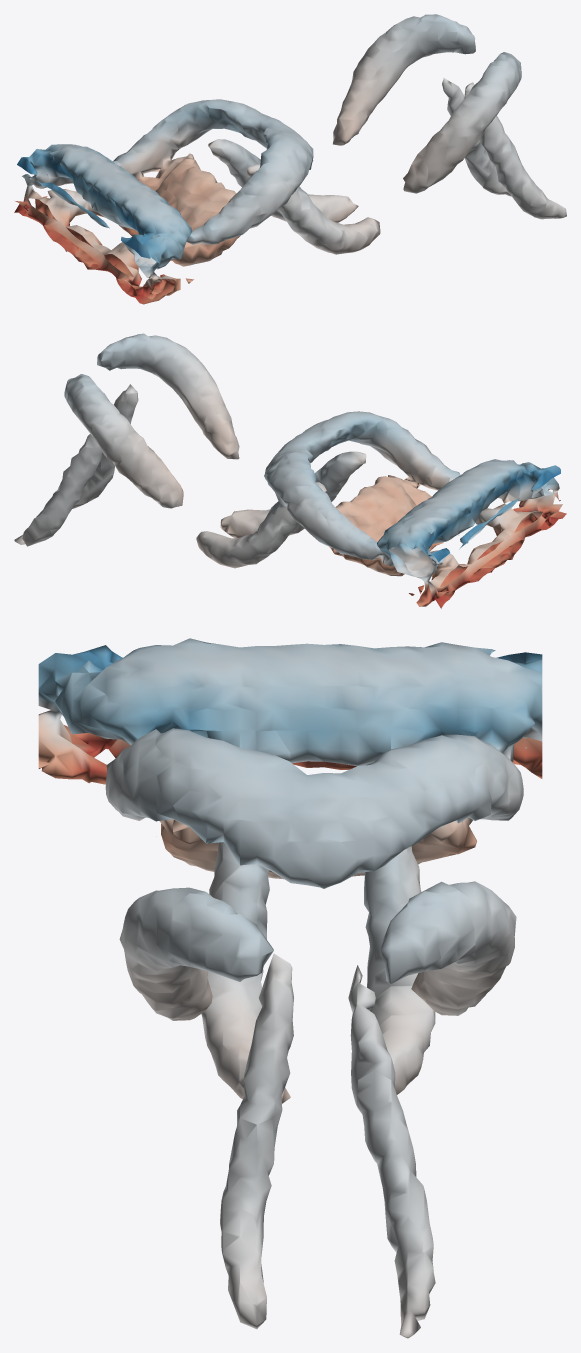
3 renders of one model, top to bottom at view 1: azimuth 30°, elevation 25°; view 2: azimuth 150°, elevation 25°; view 3: azimuth 270°, elevation 25°, orthographic. The views are drawn at different scales.
Bounding box in the file's own units: 5.32 × 2.06 × 2.5.
